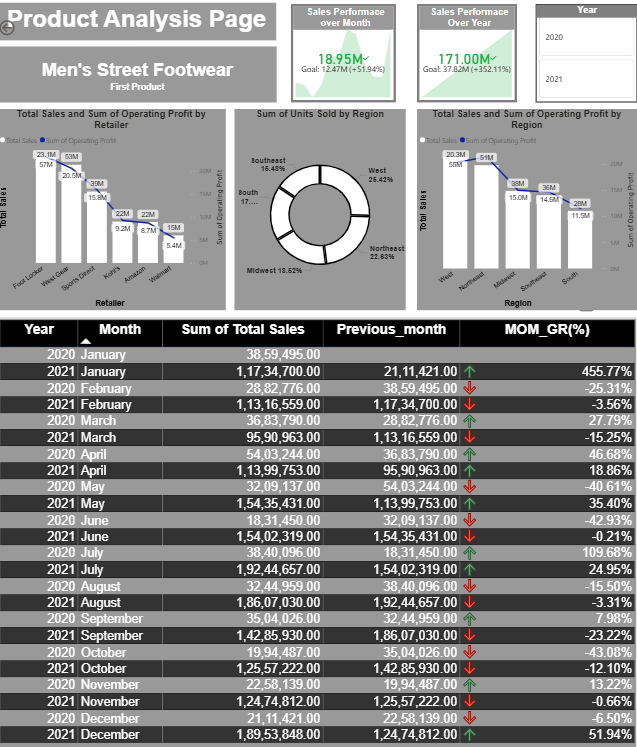

Layout of this report page (visuals, bound fields, positions):
{"tool":"powerbi","page":{"name":"Product Analysis","canvas":[1280,1500],"ordinal":1},"visuals":[{"type":"textbox","box":[0,8.3,558.3,75],"z":0},{"type":"kpi","title":"Sales Performace over Month","fields":{"Indicator":["Data Sales Adidas.TotalMTD"],"TrendLine":["Date_Master_table.Date.Variation.Date Hierarchy.Month"],"Goal":["Data Sales Adidas.Previous_month"]},"box":[586.7,10,210,196.7],"z":1000},{"type":"tableEx","fields":{"Values":["Date_Master_table.Date.Variation.Date Hierarchy.Year","Date_Master_table.Date.Variation.Date Hierarchy.Month","Sum(Data Sales Adidas.Total Sales)","Data Sales Adidas.Previous_month","Data Sales Adidas.MOM_GR(%)"]},"box":[0,638.3,1280,861.7],"z":2000},{"type":"actionButton","box":[0,36.7,100,40],"z":3000},{"type":"kpi","title":"Sales Performace Over Year","fields":{"Goal":["Data Sales Adidas.Previous_Year"],"TrendLine":["Date_Master_table.Date.Variation.Date Hierarchy.Year"],"Indicator":["Data Sales Adidas.TotalYTD"]},"box":[840,10,200,196.7],"z":4000},{"type":"advancedSlicerVisual","fields":{"Values":["Date_Master_table.Date.Variation.Date Hierarchy.Year"]},"box":[1076.7,10,203.3,196.7],"z":5000},{"type":"card","fields":{"Values":["Min(Data Sales Adidas.Product)"]},"box":[3.3,95,556.7,111.7],"z":6000},{"type":"lineStackedColumnComboChart","fields":{"Y":["Sum(Data Sales Adidas.Total Sales)"],"Category":["Data Sales Adidas.Retailer"],"Y2":["Sum(Data Sales Adidas.Operating Profit)"]},"box":[0,220,457.5,402.5],"z":7000},{"type":"lineStackedColumnComboChart","fields":{"Y":["Sum(Data Sales Adidas.Total Sales)"],"Y2":["Sum(Data Sales Adidas.Operating Profit)"],"Category":["Data Sales Adidas.Region"]},"box":[840,220,440,402.5],"z":8000},{"type":"donutChart","fields":{"Y":["Sum(Data Sales Adidas.Units Sold)"],"Category":["Data Sales Adidas.Region"]},"box":[475,220,342.5,402.5],"z":9000}]}

Visuals, with their boxes in screenshot pixels (x1, y1, x2, y2), scaled from the page's 1280x1500 canvas onto the 637x747 screenshot:
textbox: [0,4,278,41]
"Sales Performace over Month" kpi: [292,5,396,103]
tableEx - Date_Master_table.Date.Variation.Date Hierarchy.Year x Date_Master_table.Date.Variation.Date Hierarchy.Month: [0,318,636,746]
actionButton: [0,18,50,38]
"Sales Performace Over Year" kpi: [418,5,518,103]
advancedSlicerVisual - Date_Master_table.Date.Variation.Date Hierarchy.Year: [536,5,636,103]
card - Min(Data Sales Adidas.Product): [2,47,279,103]
lineStackedColumnComboChart - Sum(Data Sales Adidas.Total Sales) x Data Sales Adidas.Retailer: [0,110,228,310]
lineStackedColumnComboChart - Sum(Data Sales Adidas.Total Sales) x Sum(Data Sales Adidas.Operating Profit): [418,110,636,310]
donutChart - Sum(Data Sales Adidas.Units Sold) x Data Sales Adidas.Region: [236,110,407,310]
